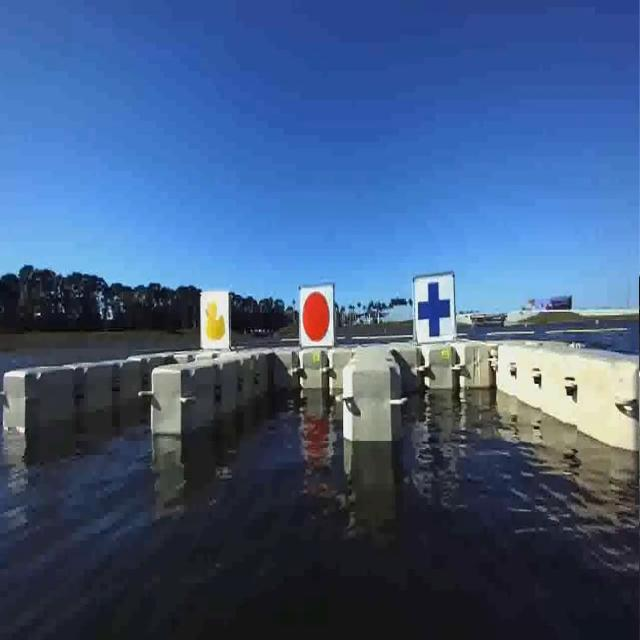blue-cross: (412, 274, 457, 343)
red-dot: (294, 280, 334, 348)
yellow-duck: (200, 292, 230, 348)
